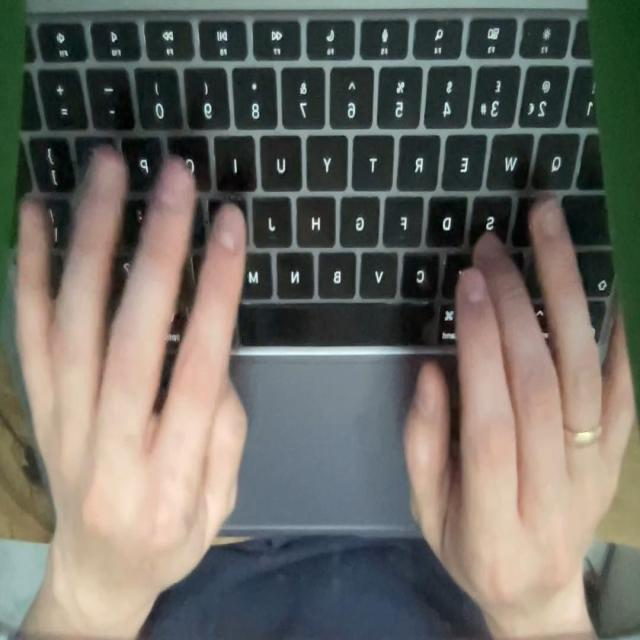keyboard-with-hands: (4, 0, 634, 541)
